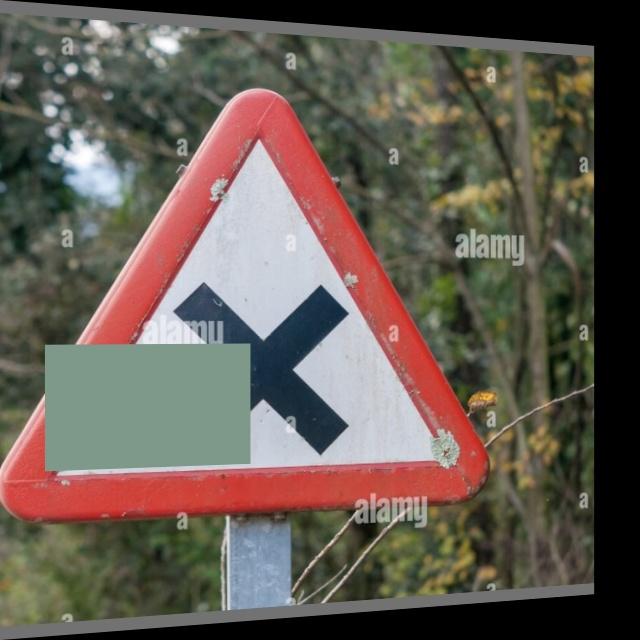Cross_Road: (18, 83, 483, 519)
